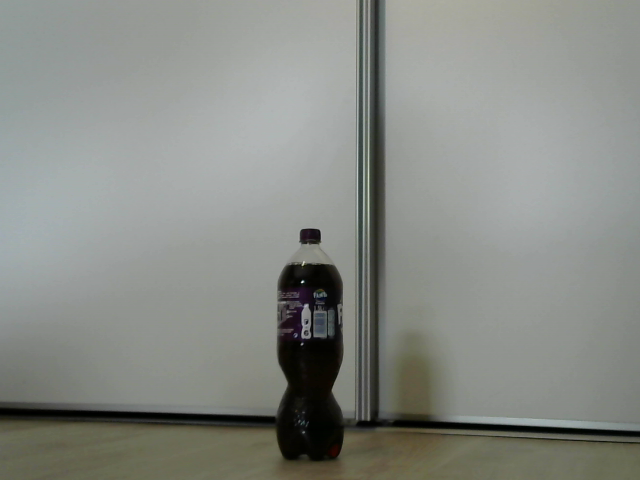bottle: (274, 228, 344, 463)
